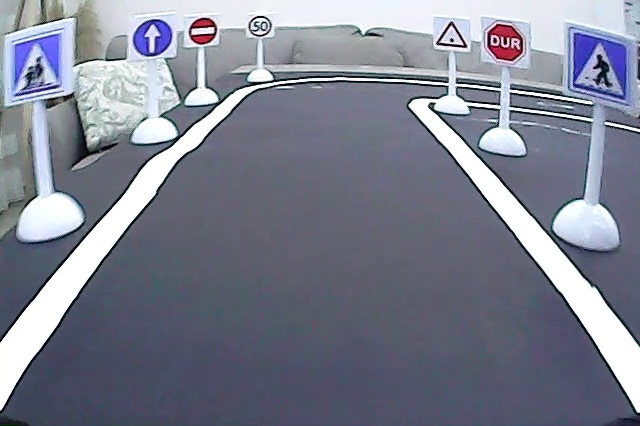do not enter: (188, 16, 218, 45)
green light: (435, 18, 471, 51)
pedestrian crossing: (566, 23, 635, 109)
school crossing: (8, 31, 66, 100)
speed limit 50: (247, 13, 274, 39)
stop sign: (481, 18, 529, 66)
